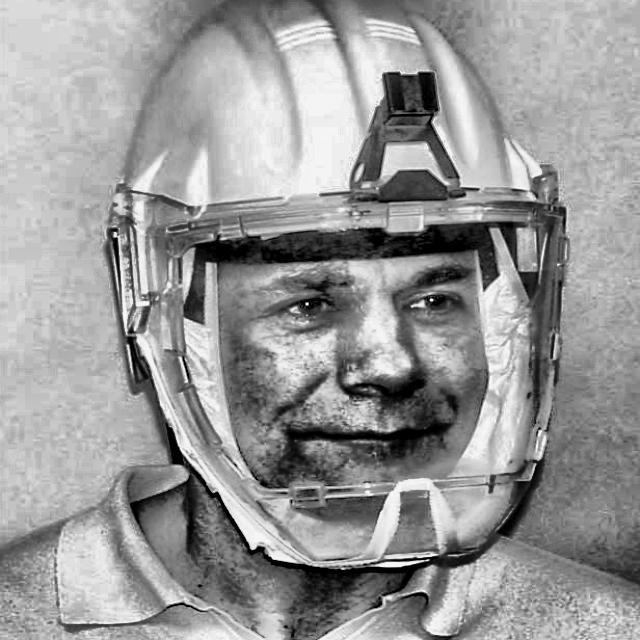Helmet: (100, 0, 578, 579)
